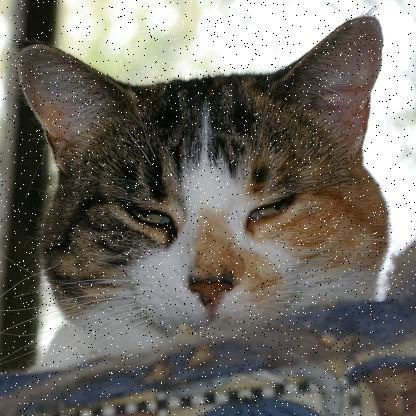cat: (3, 13, 406, 340)
